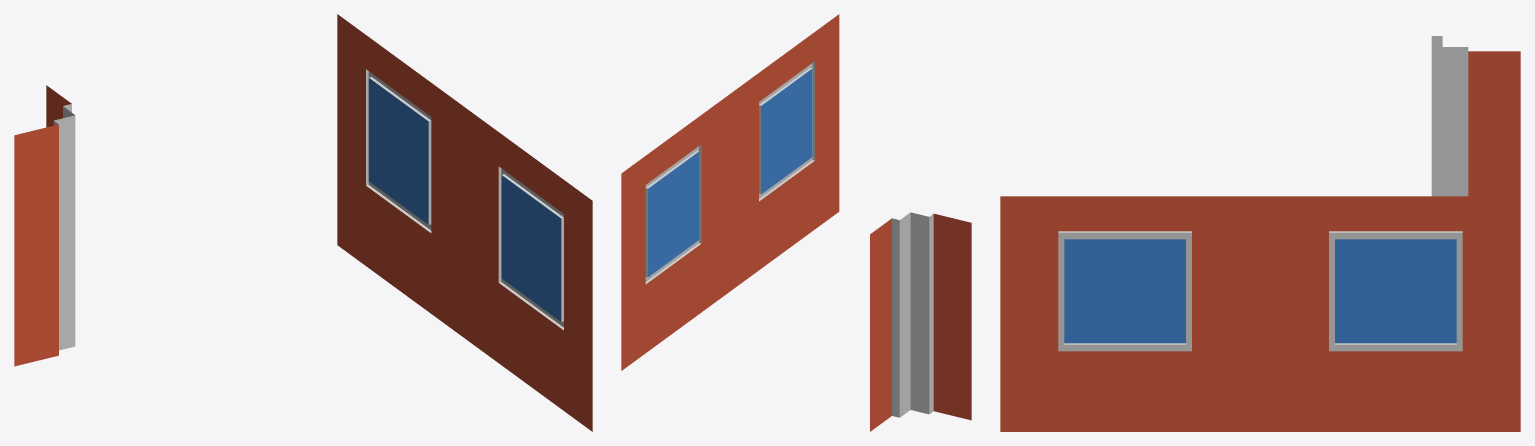
The model's file is 06b_mid.fbx.
3 views of the same model, side by side, from view 1: azimuth 30°, elevation 25°; view 2: azimuth 150°, elevation 25°; view 3: azimuth 270°, elevation 25° (orthographic). The views are drawn at different scales.
Parts seen in each view (by area): view 1: 06b_Mid; view 2: 06b_Mid; view 3: 06b_Mid.
Boxes of the visible parts, x1,y1,x2,y2 form: 06b_Mid: [14, 14, 592, 431]; 06b_Mid: [621, 14, 971, 431]; 06b_Mid: [1000, 36, 1520, 431].
Size of the model in its own units: 41.8 by 25 by 50.
